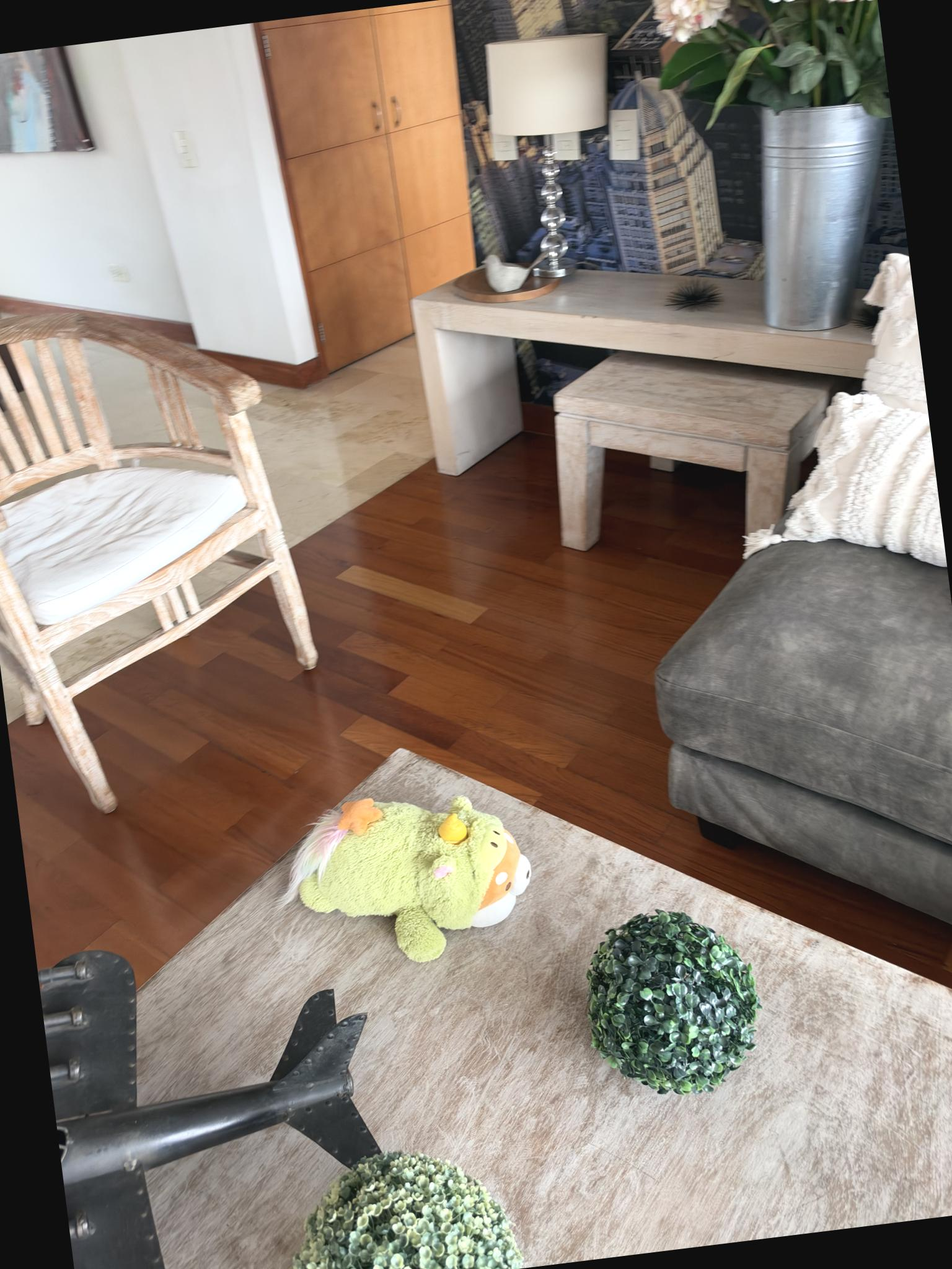peluche_martin: (262, 778, 542, 980)
